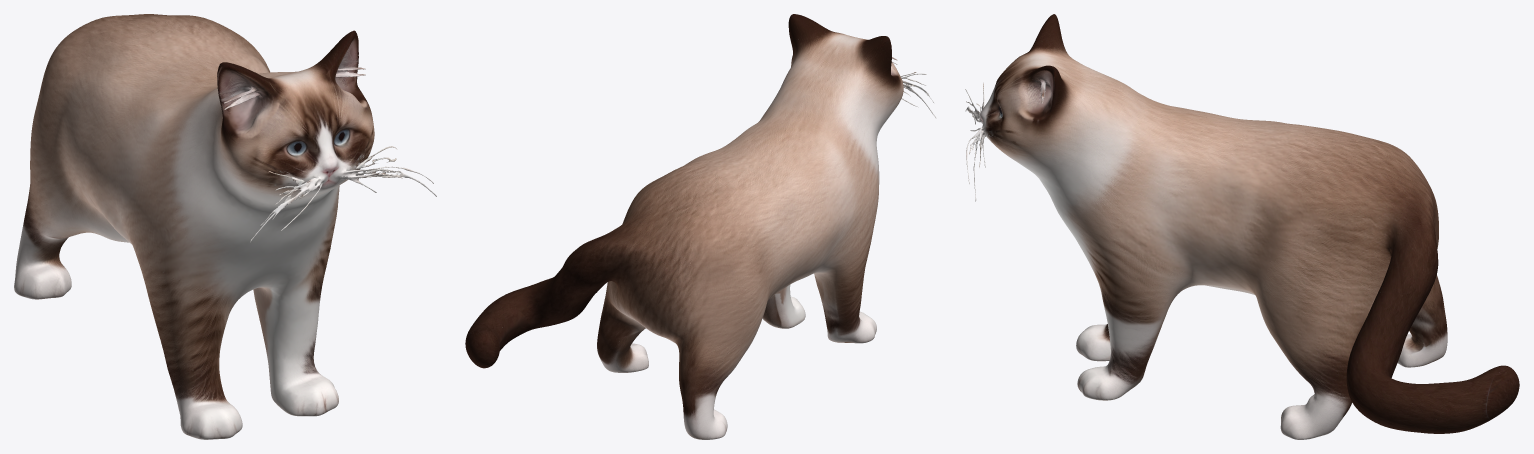
The model's file is mochi-ragdoll-meshy.glb.
3 views of the same model, side by side, from view 1: azimuth 30°, elevation 25°; view 2: azimuth 150°, elevation 25°; view 3: azimuth 270°, elevation 25° (orthographic). The views are drawn at different scales.
Bounding box in the file's own units: 1.21 × 1.25 × 1.9.
1 material, 1 textured.
